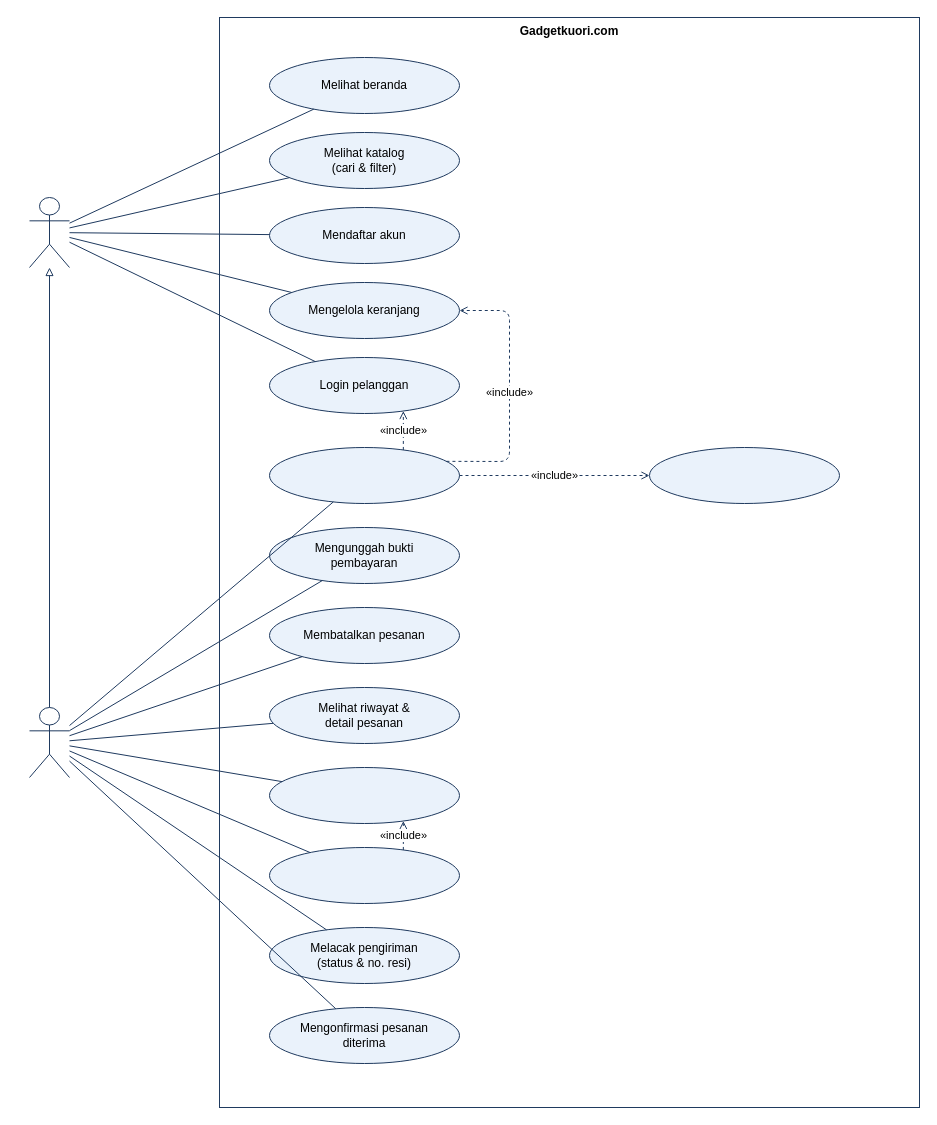
This 937x1125 diagram has some shape labels left out. The shapes that lost their labels are listed below. From the top down, each one's centre as x and y in pixels, then its label:
point 49,232: Pengunjung
point 364,475: Checkout & pilih metode pembayaran
point 744,475: Mengisi data penerima & alamat pengiriman
point 49,742: Pelanggan
point 364,795: Melihat garansi
point 364,875: Mengajukan klaim garansi
